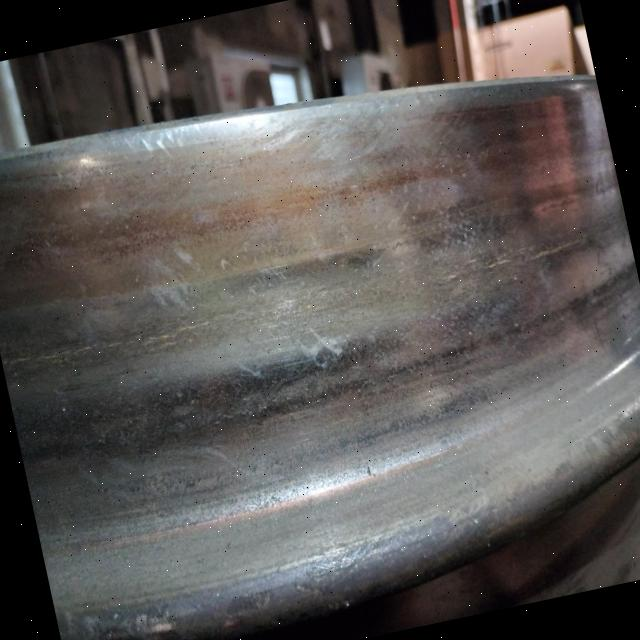Contact_Fatigue_Cracks: (1, 301, 244, 401), (421, 207, 623, 311)
